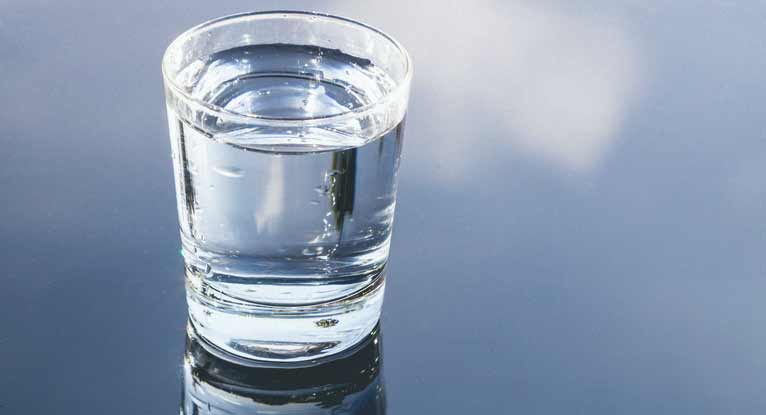glass of water: (157, 12, 415, 359)
